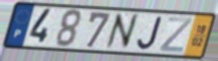4: (28, 6, 53, 47)
7: (86, 10, 113, 49)
8: (54, 8, 83, 49)
J: (136, 15, 164, 51)
N: (104, 12, 140, 51)
Z: (158, 16, 194, 54)
